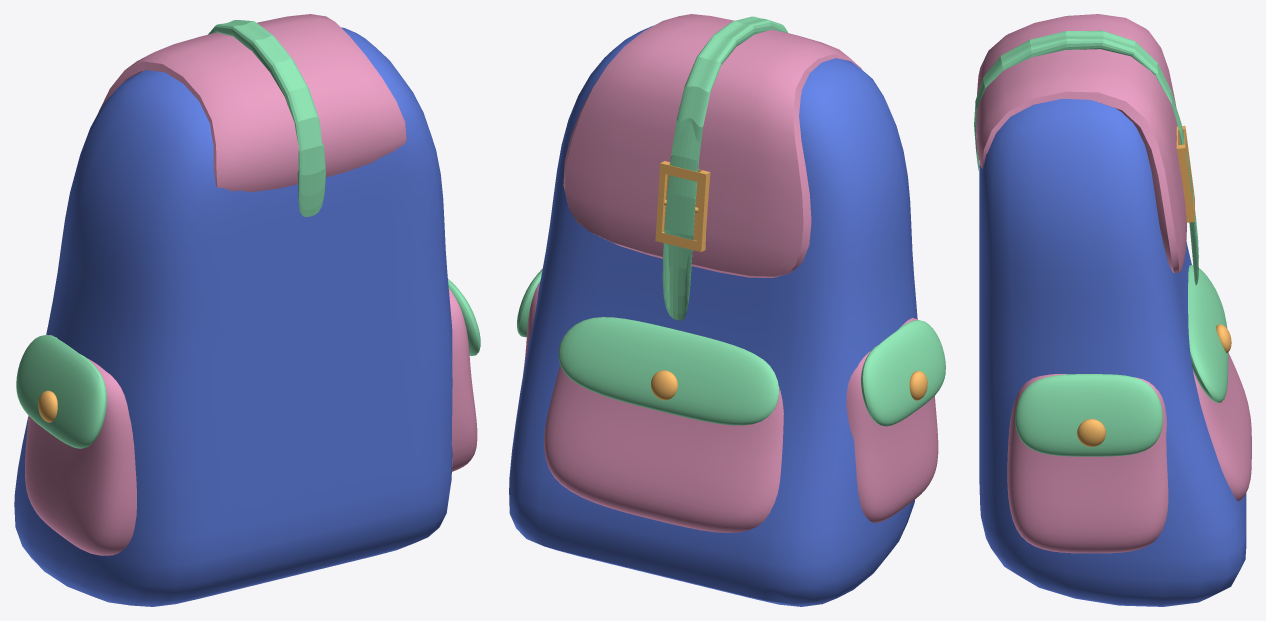
Rendered from backpack.fbx.
3 views of the same model, side by side, from view 1: azimuth 30°, elevation 25°; view 2: azimuth 150°, elevation 25°; view 3: azimuth 270°, elevation 25° (orthographic). The views are drawn at different scales.
Visible parts, largest first — view 1: Cube.008; view 2: Cube.008; view 3: Cube.008.
Part boxes in pixels (x1,y1,x2,y2): Cube.008: (14, 14, 480, 606); Cube.008: (509, 14, 945, 606); Cube.008: (974, 14, 1251, 606).
Bounding box in the file's own units: 234 × 293 × 146.
